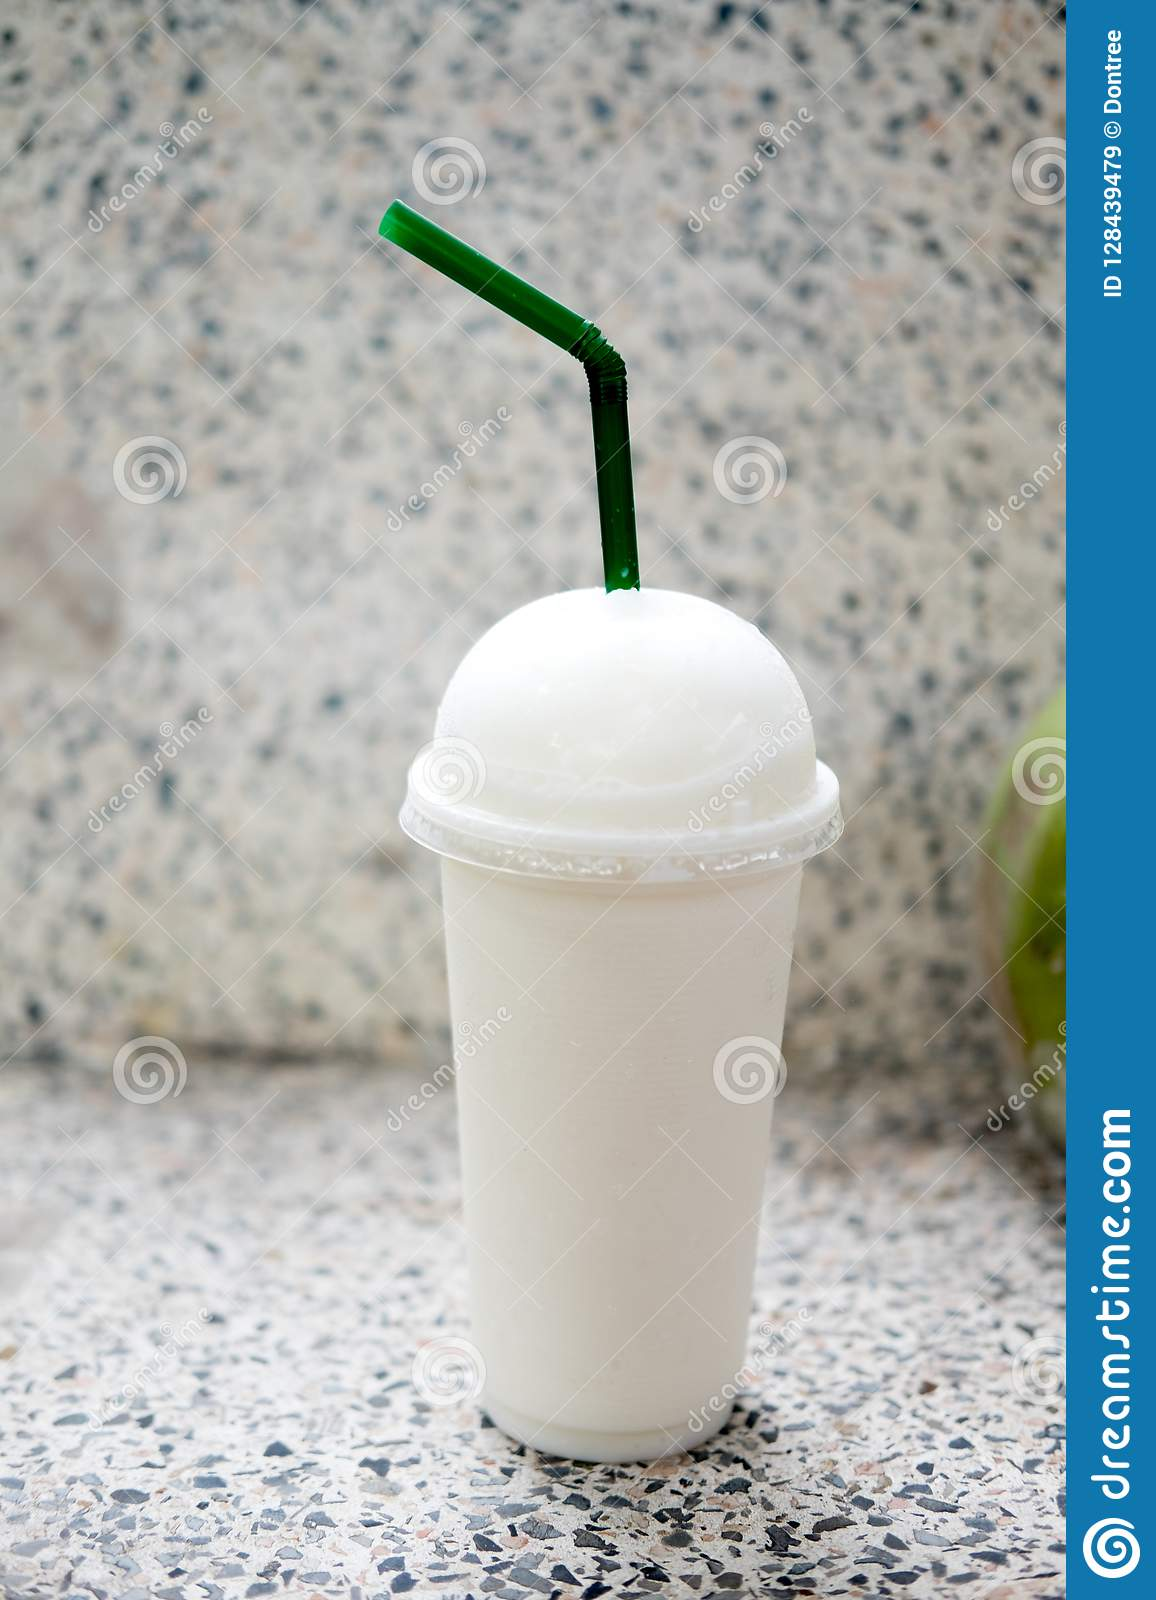plastic_bottle: (387, 580, 860, 1475)
